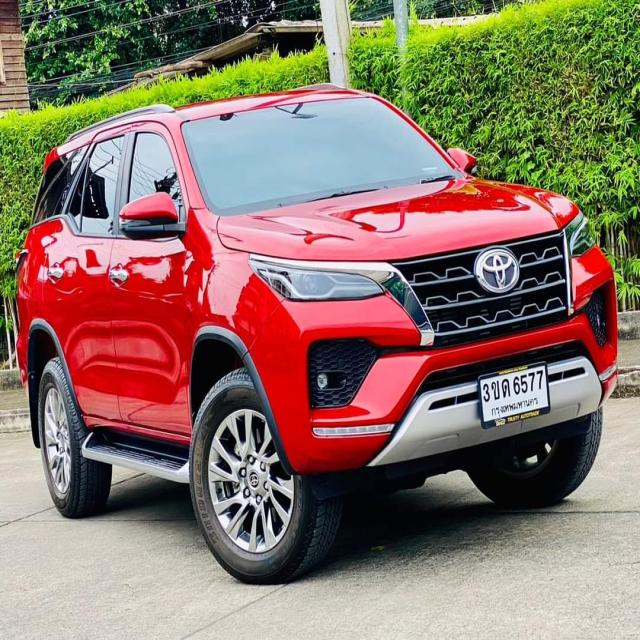license_plate: (478, 362, 553, 429)
